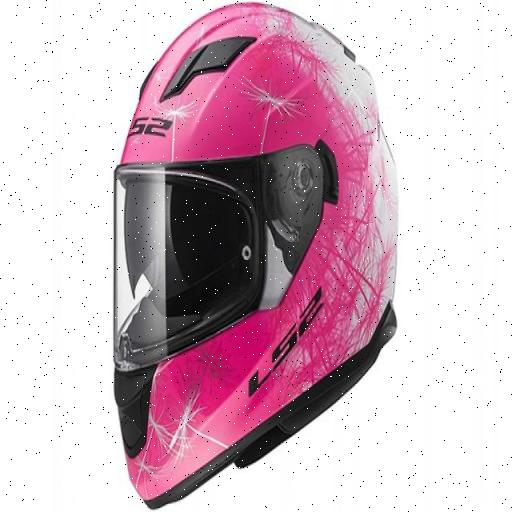Helmet: (115, 4, 396, 507)
